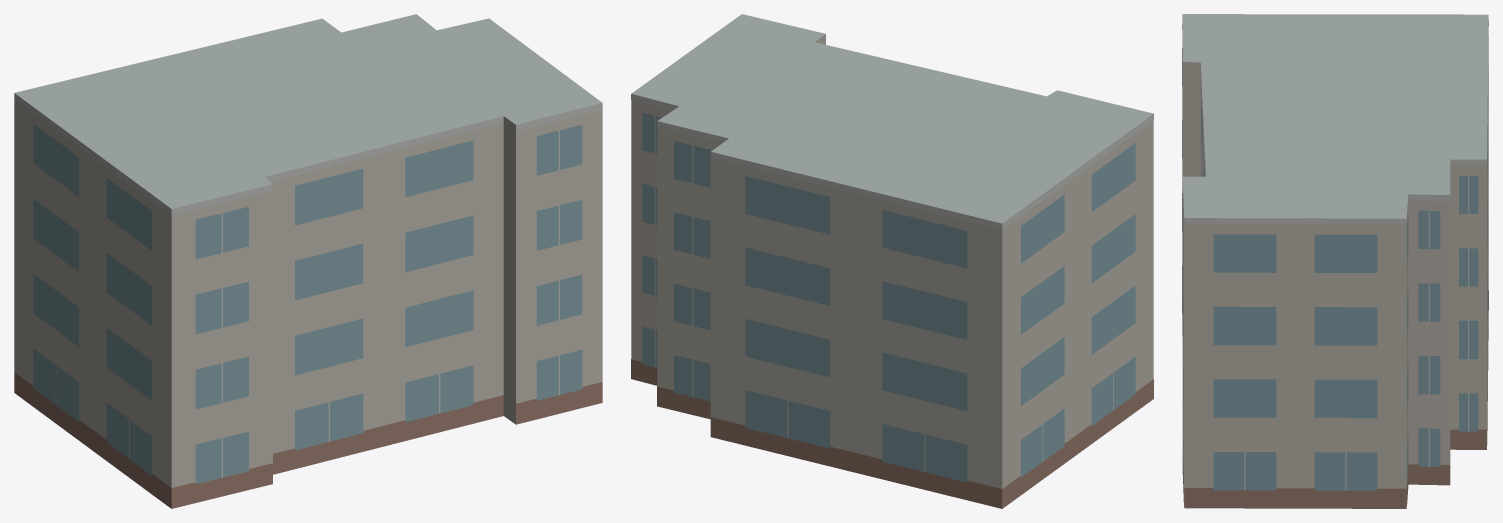
File: survey-upis-32821069.glb
3 renders of one model, left to right at view 1: azimuth 30°, elevation 25°; view 2: azimuth 150°, elevation 25°; view 3: azimuth 270°, elevation 25°, orthographic. The views are drawn at different scales.
Visible parts, largest first — view 1: survey-upis-32821069.tmp; view 2: survey-upis-32821069.tmp; view 3: survey-upis-32821069.tmp.
Boxes of the visible parts, bbox=[...] form: survey-upis-32821069.tmp: bbox=[14, 14, 602, 508]; survey-upis-32821069.tmp: bbox=[631, 14, 1153, 508]; survey-upis-32821069.tmp: bbox=[1182, 14, 1488, 508].
Size of the model in its own units: 16.65 by 11 by 10.54.
